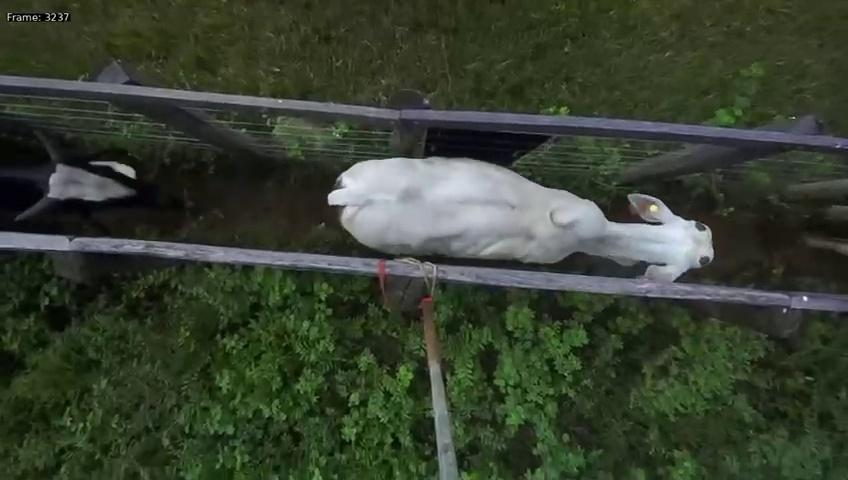cattle: (323, 144, 717, 293)
